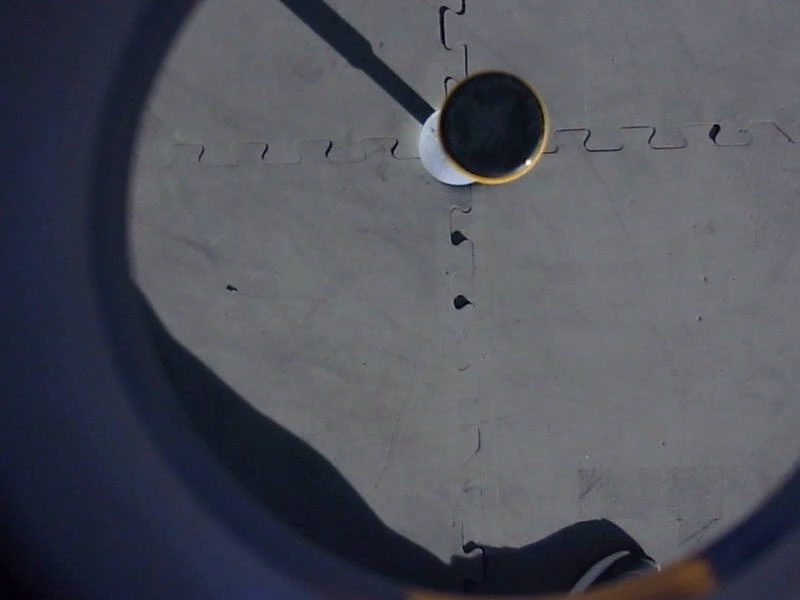tip: (432, 65, 557, 191)
